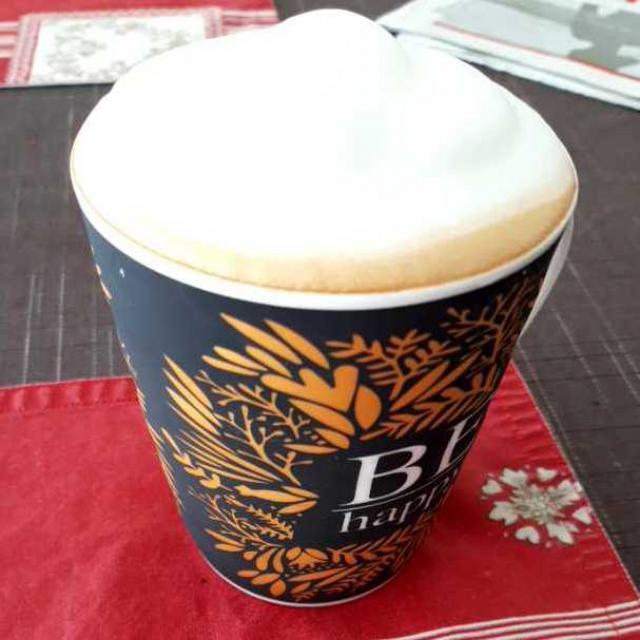cappuccino: (81, 27, 553, 292)
